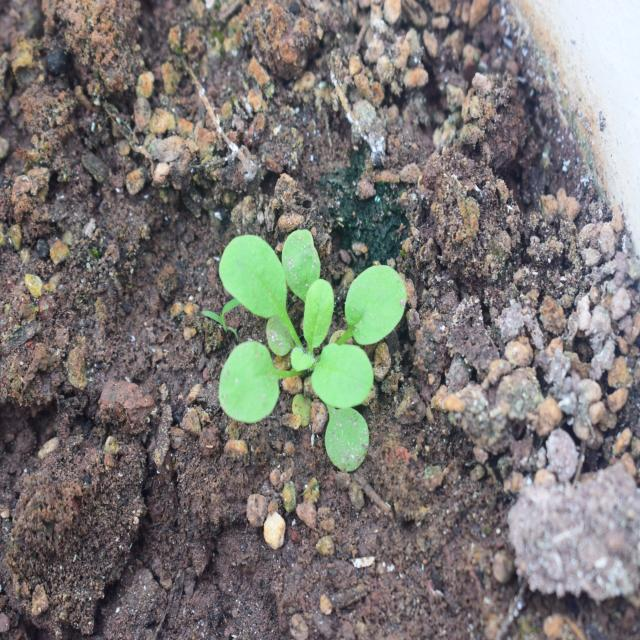Shepherd_Purse: (205, 204, 404, 460)
